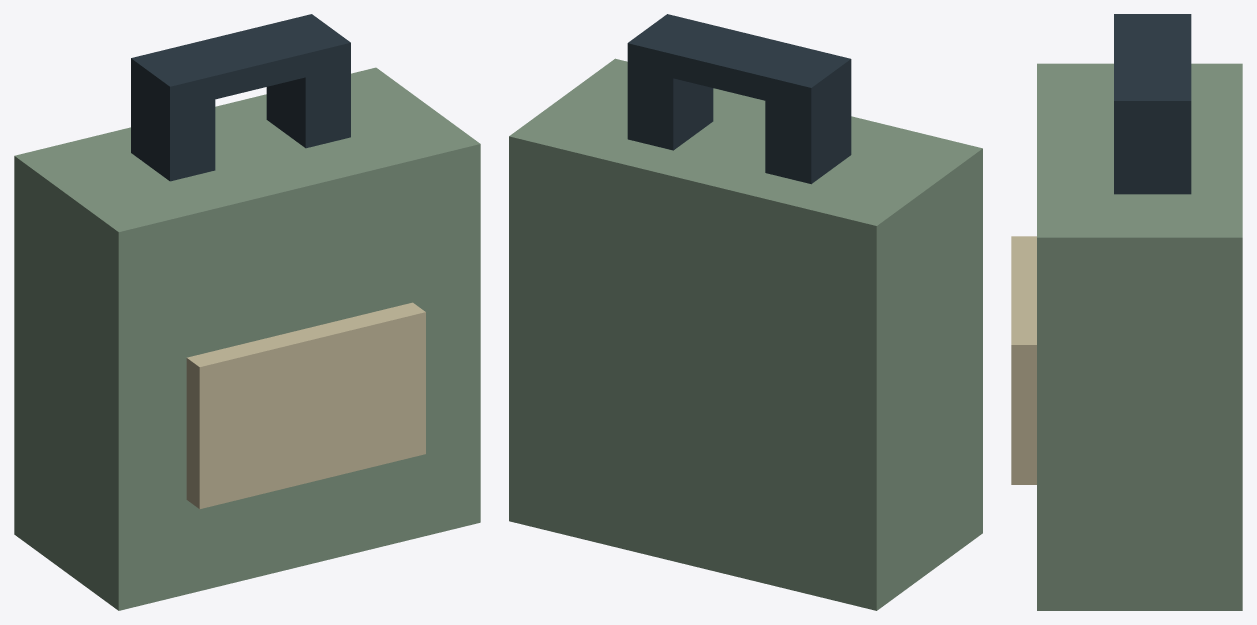
The model's file is geospatial-10.glb.
3 renders of one model, left to right at view 1: azimuth 30°, elevation 25°; view 2: azimuth 150°, elevation 25°; view 3: azimuth 270°, elevation 25°, orthographic. The views are drawn at different scales.
Visible parts, largest first — view 1: Field backpack; view 2: Field backpack; view 3: Field backpack.
Boxes of the visible parts, bbox=[...] form: Field backpack: bbox=[14, 14, 480, 610]; Field backpack: bbox=[509, 14, 982, 610]; Field backpack: bbox=[1011, 14, 1242, 610].
Bounding box in the file's own units: 1.28 × 1.6 × 0.72.
